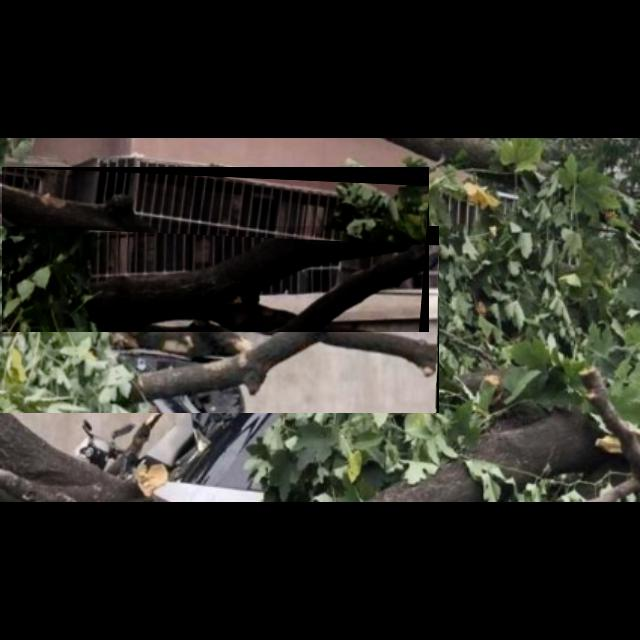Fallen Tree: (0, 226, 440, 414), (2, 167, 430, 333)
